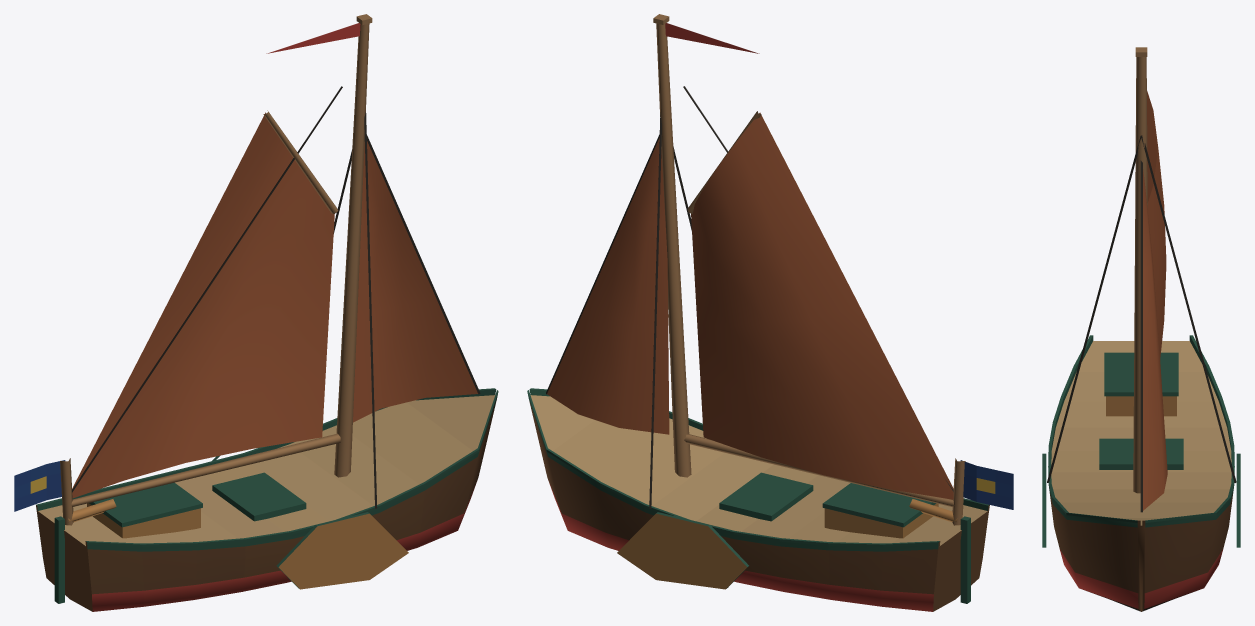
The model's file is hull_eur_botter_medium.glb.
The picture shows the model from 3 angles, left to right: view 1: azimuth 30°, elevation 25°; view 2: azimuth 150°, elevation 25°; view 3: azimuth 270°, elevation 25°; orthographic projection.
Parts seen in each view (by area): view 1: hull, sail_main, sail_jib, deck, mast, boom_spar, flag, rigging, gaff; view 2: sail_main, hull, sail_jib, deck, mast, flag, rigging, boom_spar; view 3: hull, sail_jib, deck, mast, rigging, sail_main.
Part boxes in pixels (bbox=[...]): hull: bbox=[36, 388, 498, 611]; sail_main: bbox=[72, 112, 334, 498]; sail_jib: bbox=[353, 141, 477, 422]; deck: bbox=[68, 472, 306, 538]; mast: bbox=[60, 14, 372, 525]; boom_spar: bbox=[71, 86, 342, 506]; flag: bbox=[14, 23, 360, 511]; rigging: bbox=[333, 112, 480, 508]; gaff: bbox=[263, 110, 338, 213]; sail_main: bbox=[691, 112, 953, 499]; hull: bbox=[527, 388, 989, 611]; sail_jib: bbox=[547, 138, 669, 434]; deck: bbox=[719, 472, 957, 538]; mast: bbox=[653, 14, 965, 525]; flag: bbox=[665, 23, 1013, 509]; rigging: bbox=[546, 112, 691, 508]; boom_spar: bbox=[683, 86, 954, 507]; hull: bbox=[1042, 335, 1240, 611]; sail_jib: bbox=[1143, 169, 1167, 510]; deck: bbox=[1099, 352, 1183, 469]; mast: bbox=[1133, 47, 1147, 493]; rigging: bbox=[1047, 135, 1236, 512]; sail_main: bbox=[1147, 91, 1166, 359].
Size of the model in its own units: 14.44 by 14.98 by 5.12.
